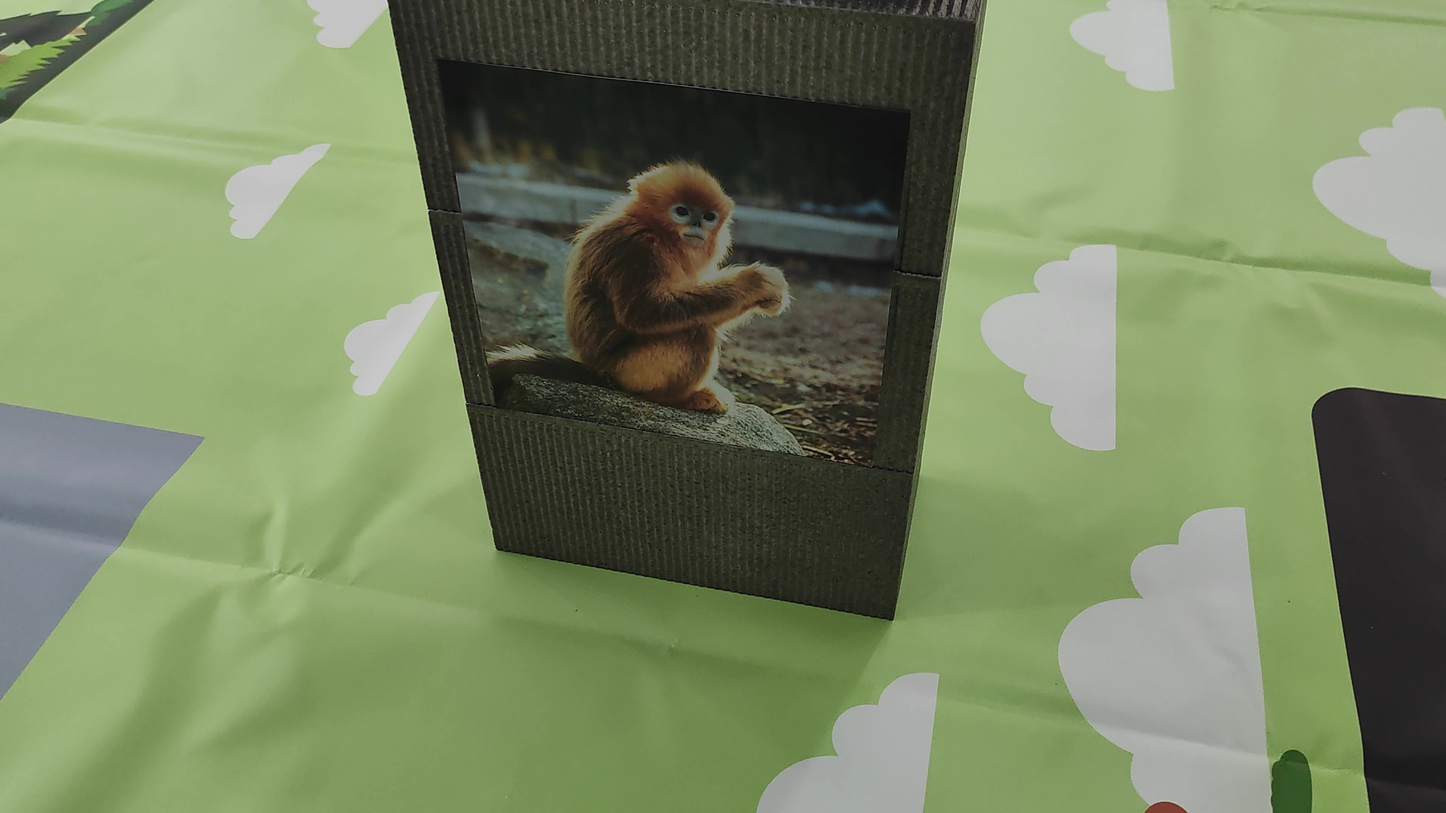monkey: (491, 112, 835, 456)
